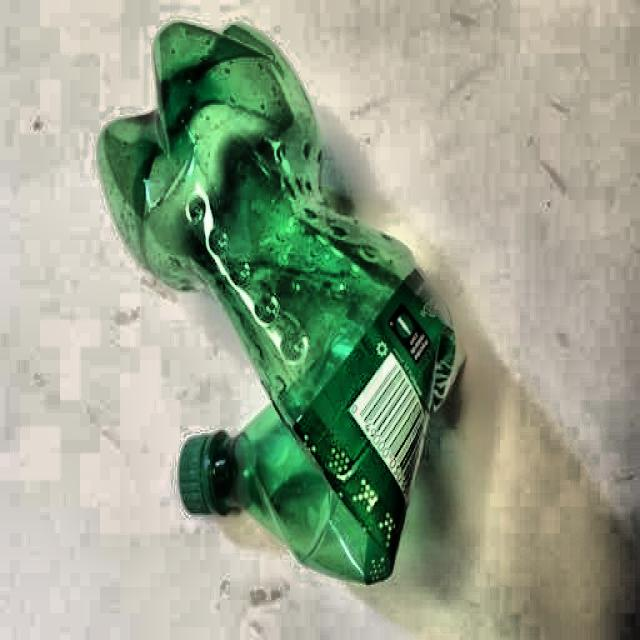plastic: (96, 21, 464, 589)
